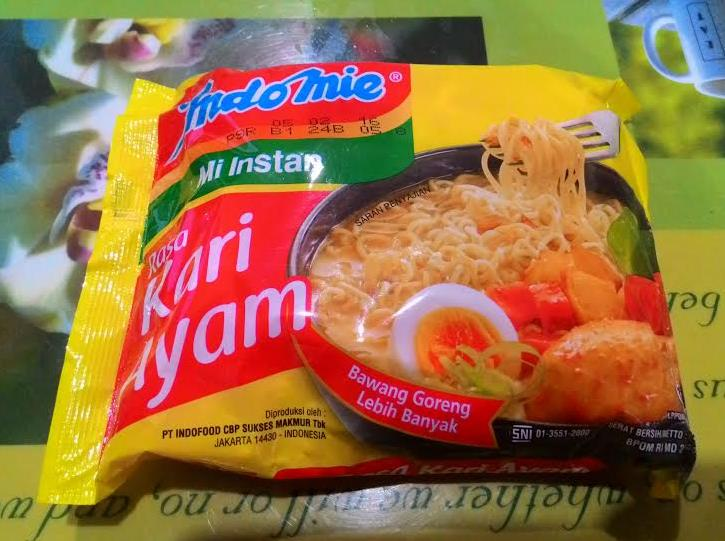indomie kari ayam: (75, 39, 697, 490)
